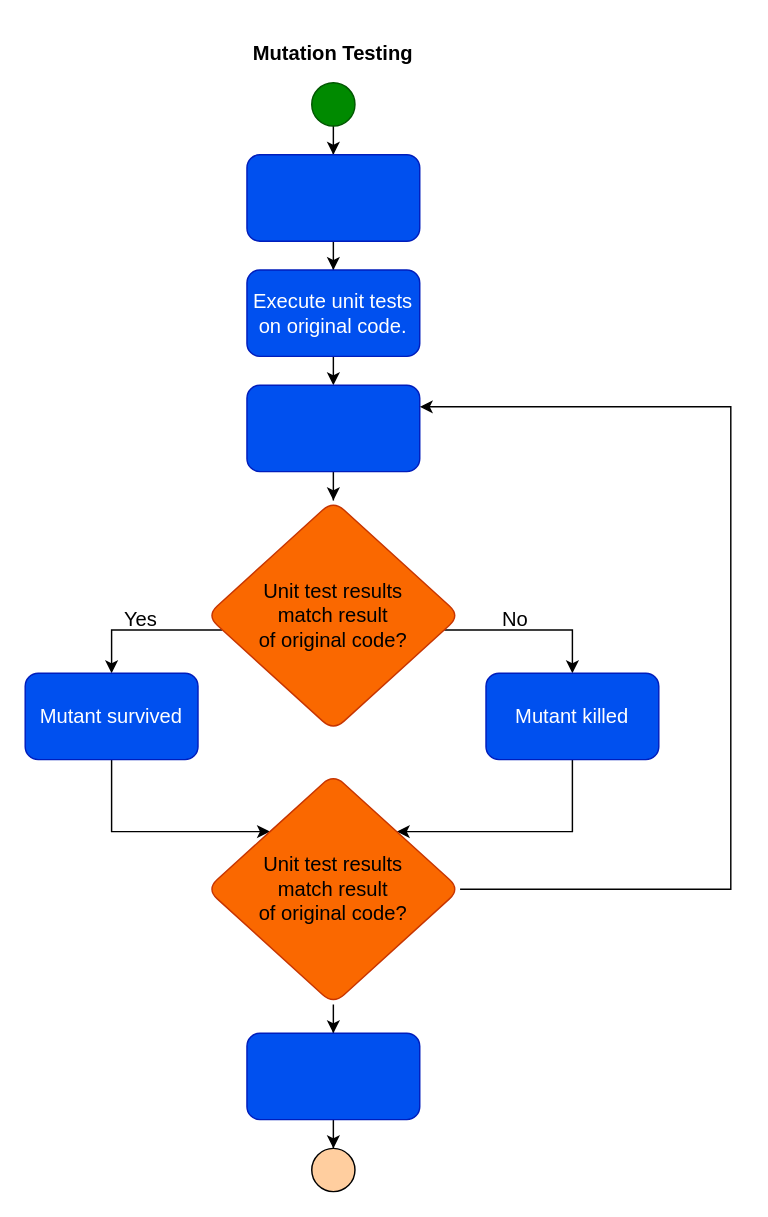
The diagram is 768 pixels wide and 1217 high, and some of its shapes have lost their labels. Each missing label, with the box of its shape:
Create mutant versions of the application code.: (246, 153, 420, 241)
Execute unit tests on mutant: (246, 384, 420, 472)
Untested mutants remain?: (246, 1032, 420, 1120)
